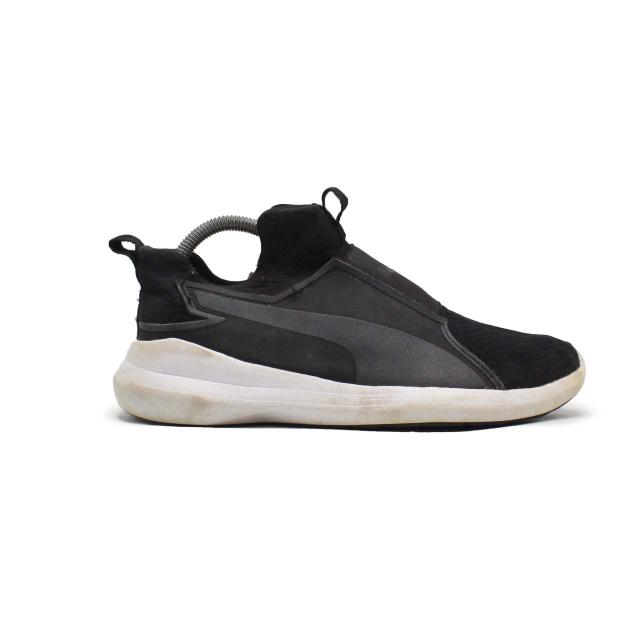heel: (107, 234, 221, 350)
midsole: (111, 338, 587, 426)
uppersole: (217, 189, 574, 389)
